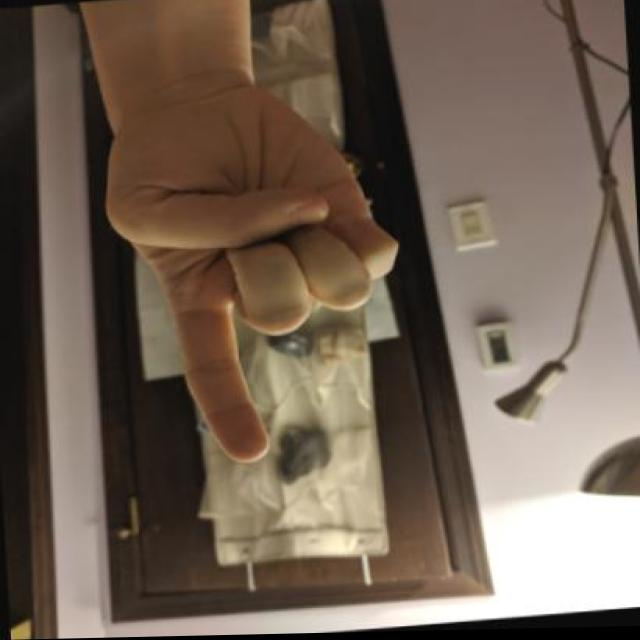D: (92, 69, 417, 479)
